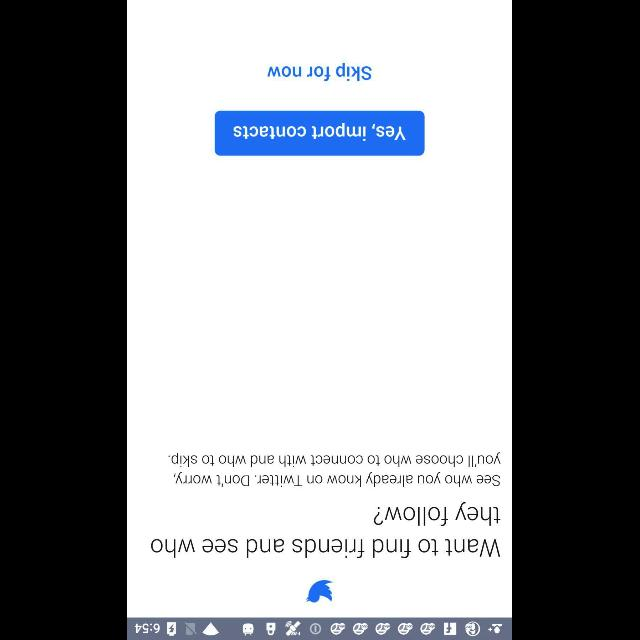icon: (306, 580, 334, 602)
text: (151, 502, 501, 558), (168, 452, 502, 488), (268, 62, 372, 82)
textbutton: (215, 110, 425, 156)
uppertaskbar: (128, 617, 512, 639)
